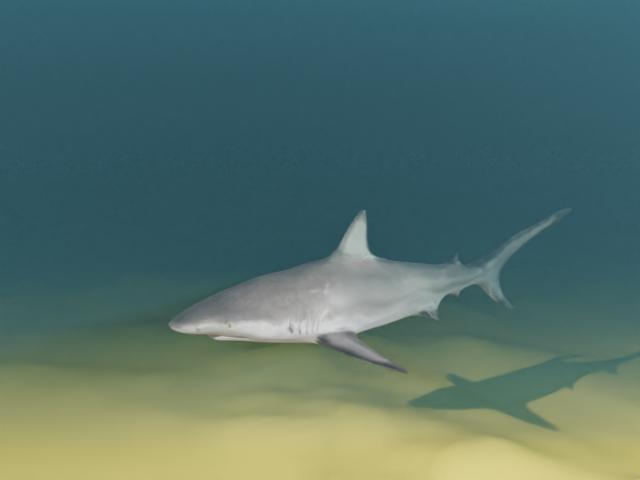Carribean Shark.001: (168, 208, 571, 373)
